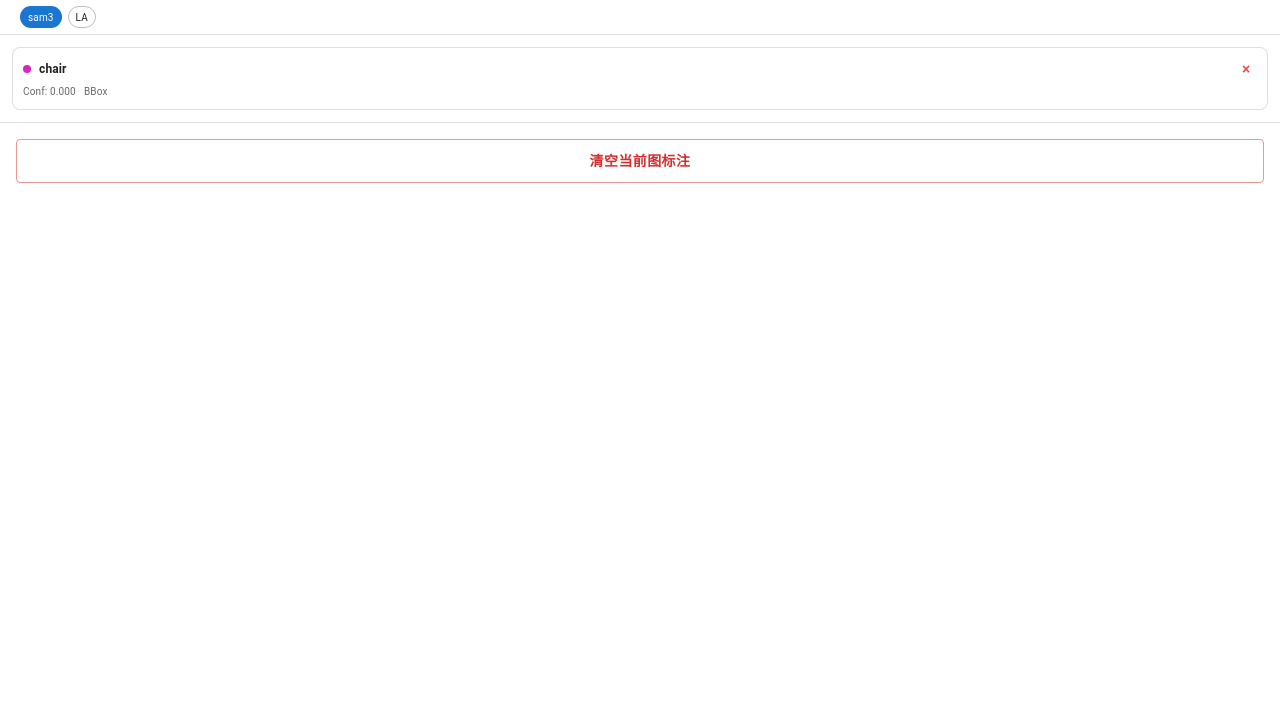
AnnotationList editable policy › replaces the edit button with double-click class editing in manual mode
Expected: the button named "删除当前选中标注" is shown, [1235,58,1257,80]
Expected: the button "清空当前图标注" is shown, [16,139,1264,183]
Double-click the element showing "chair × Conf: 0.000 BBox" at (640, 78), box [12,47,1268,110]
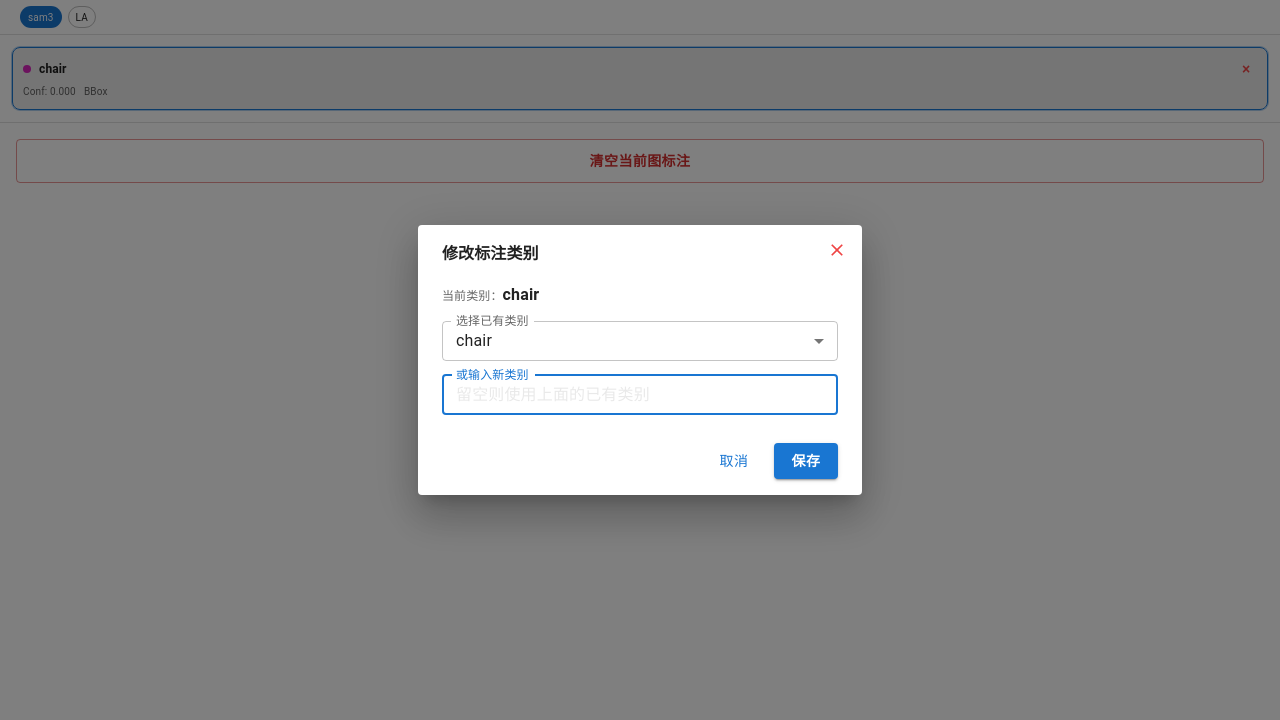
Result: the dialog is shown at [418,225,862,495]
Result: the heading "修改标注类别" is shown at [442,235,852,265]
